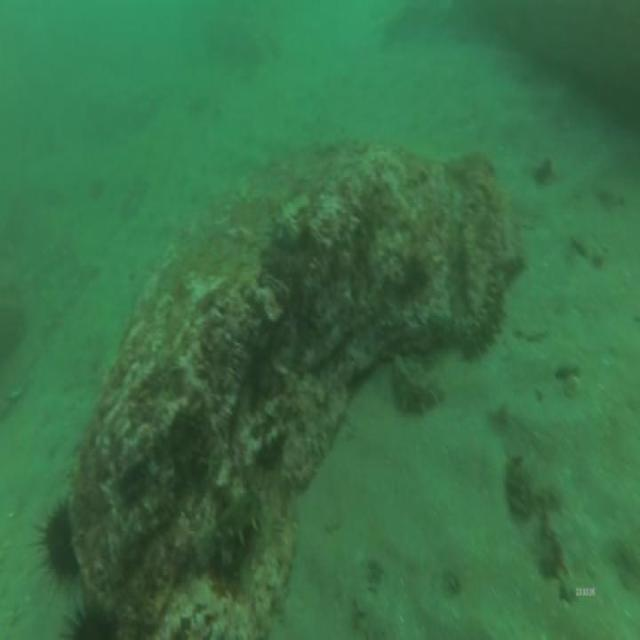echinus: (25, 485, 91, 593)
holothurian: (190, 485, 270, 571), (445, 273, 511, 362), (391, 343, 448, 417)
